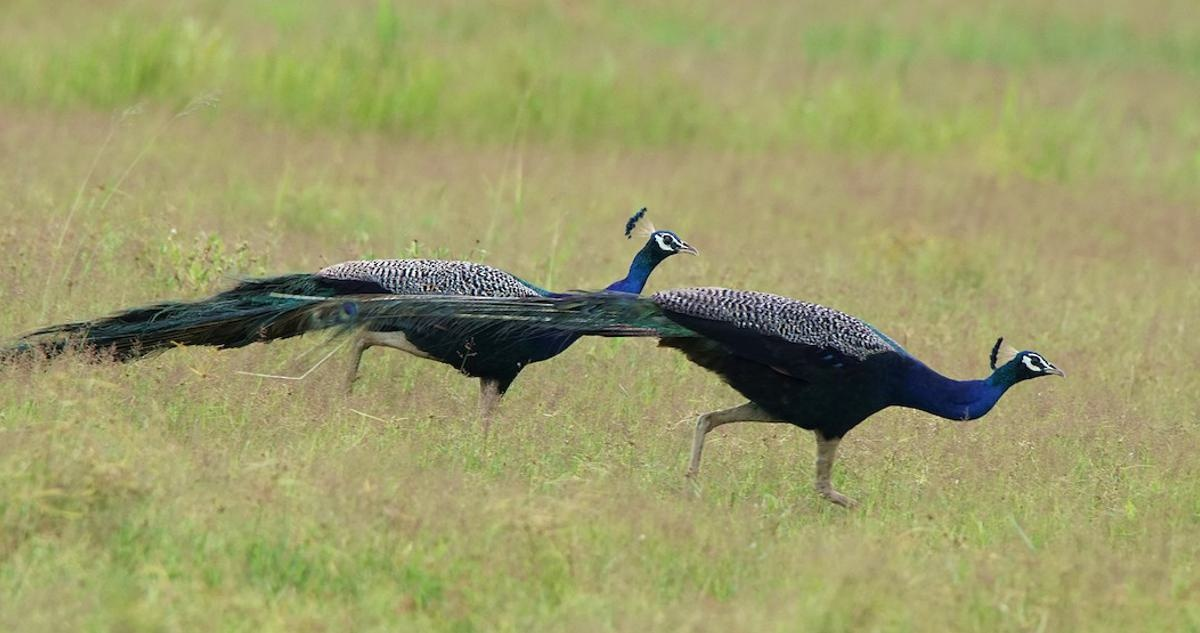peacock: (1, 191, 705, 400), (569, 281, 1071, 519)
